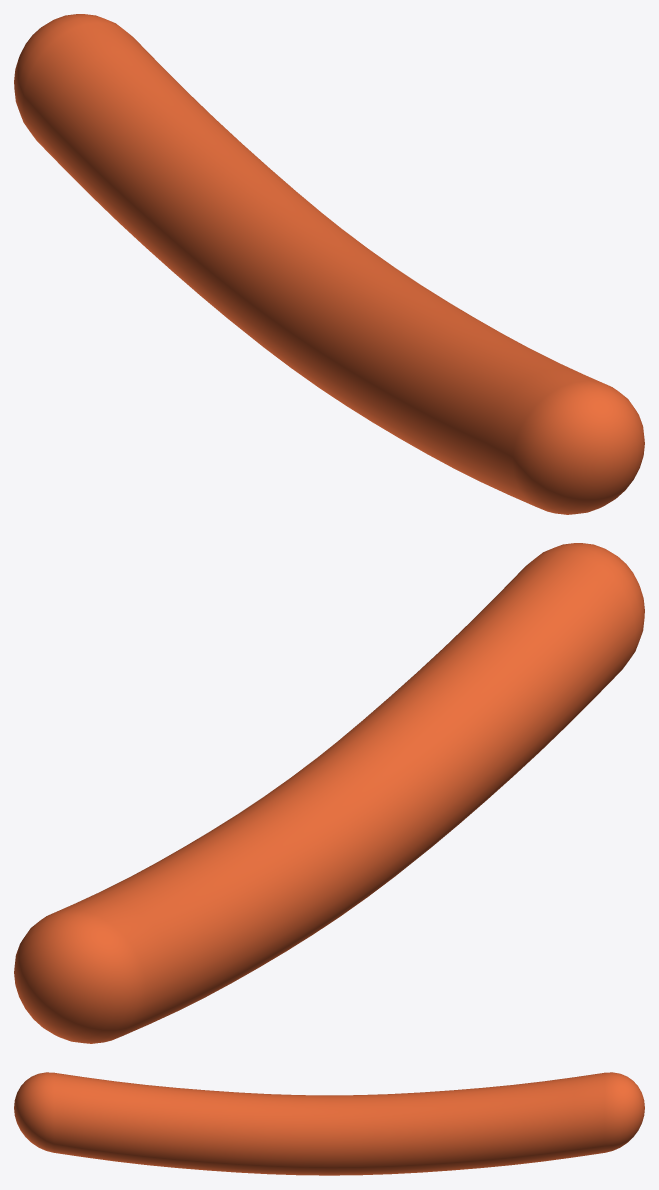
The model's file is Sausage.fbx.
3 renders of one model, top to bottom at view 1: azimuth 30°, elevation 25°; view 2: azimuth 150°, elevation 25°; view 3: azimuth 270°, elevation 25°, orthographic. The views are drawn at different scales.
Parts seen in each view (by area): view 1: Sausage; view 2: Sausage; view 3: Sausage.
Part boxes in pixels (x1,y1,x2,y2): Sausage: (14,14,644,514); Sausage: (14,543,644,1043); Sausage: (14,1072,644,1175).
Size of the model in its own units: 97.52 by 129 by 767.
